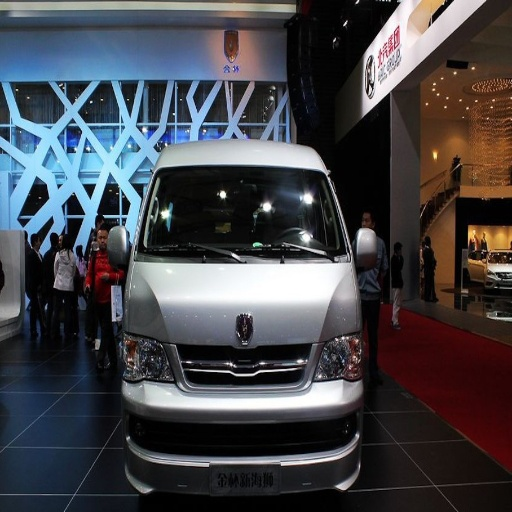front_bumper: (121, 342, 365, 496)
front_left_light: (314, 329, 370, 381)
front_right_light: (117, 326, 172, 382)
hood: (125, 260, 360, 342)
